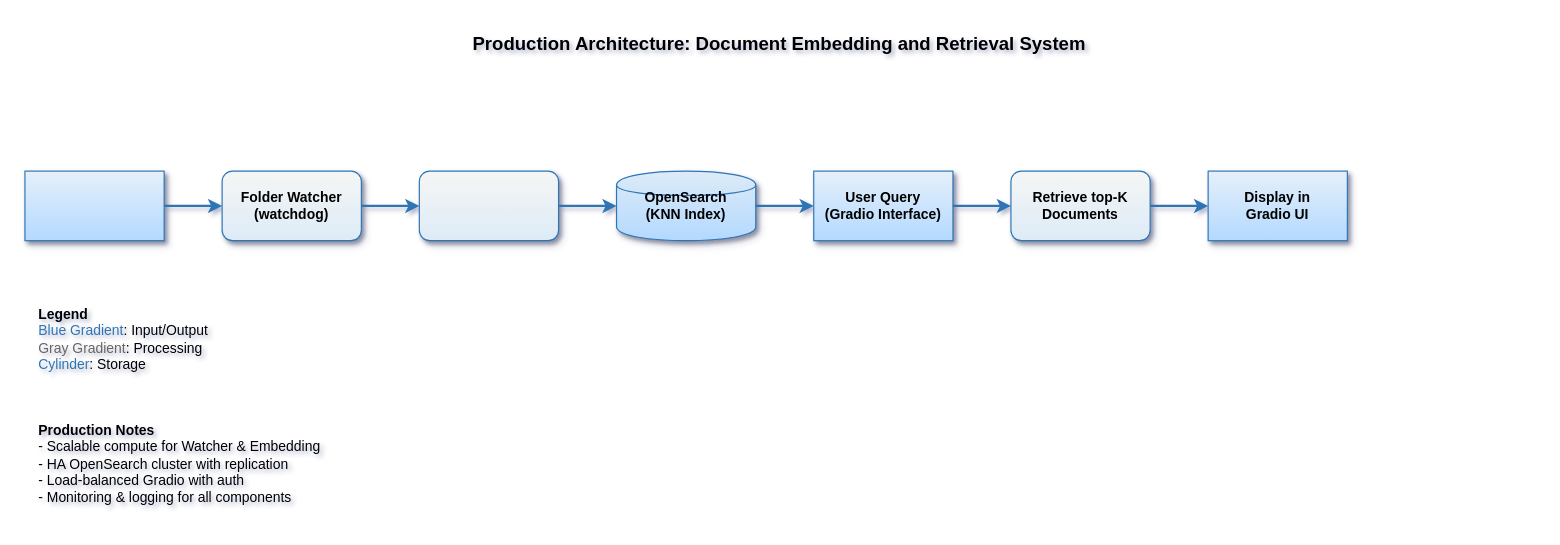
This 1560x545 diagram has some shape labels left out. The shapes that lost their labels are listed below. From the top down, each one's centre as x and y in pixels, then its label:
point (95, 207): Folder ('sample_files/')
point (490, 207): SentenceTransformer (Embedding)
